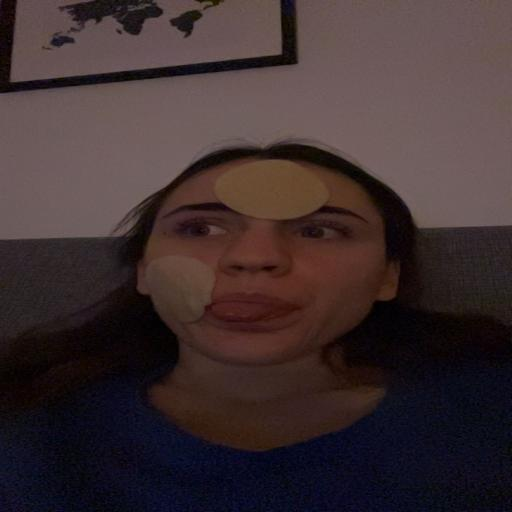masa: (135, 170, 382, 360)
